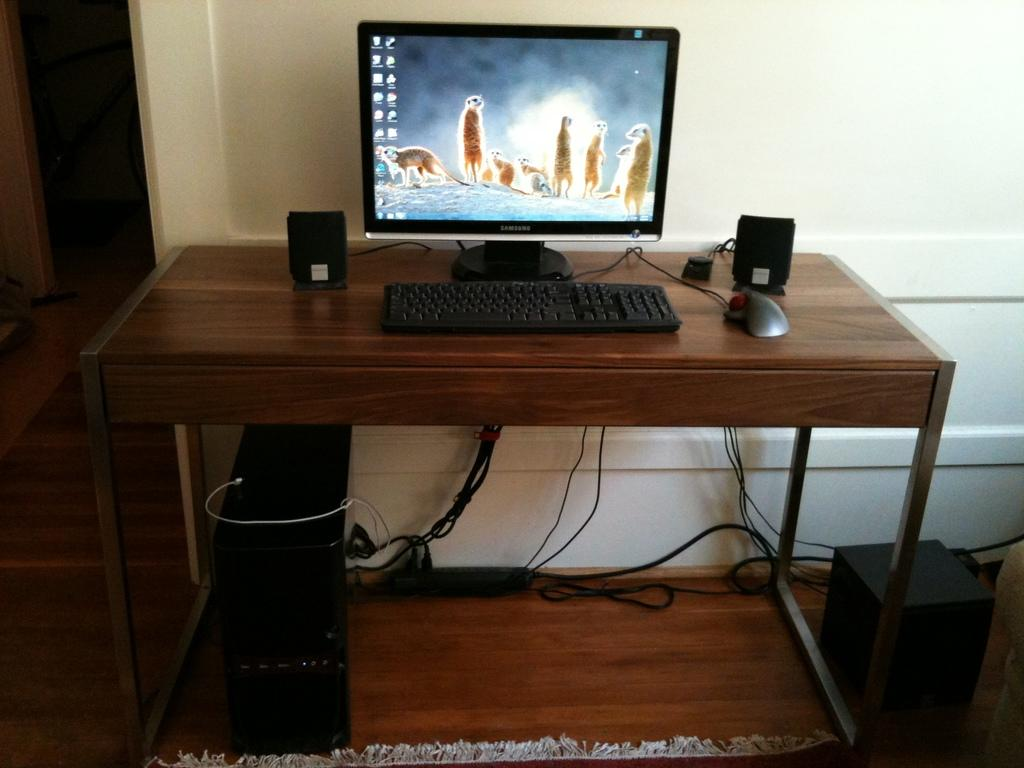Computer-keyboard: (385, 246, 686, 331)
Computer-monitor: (353, 25, 685, 298)
